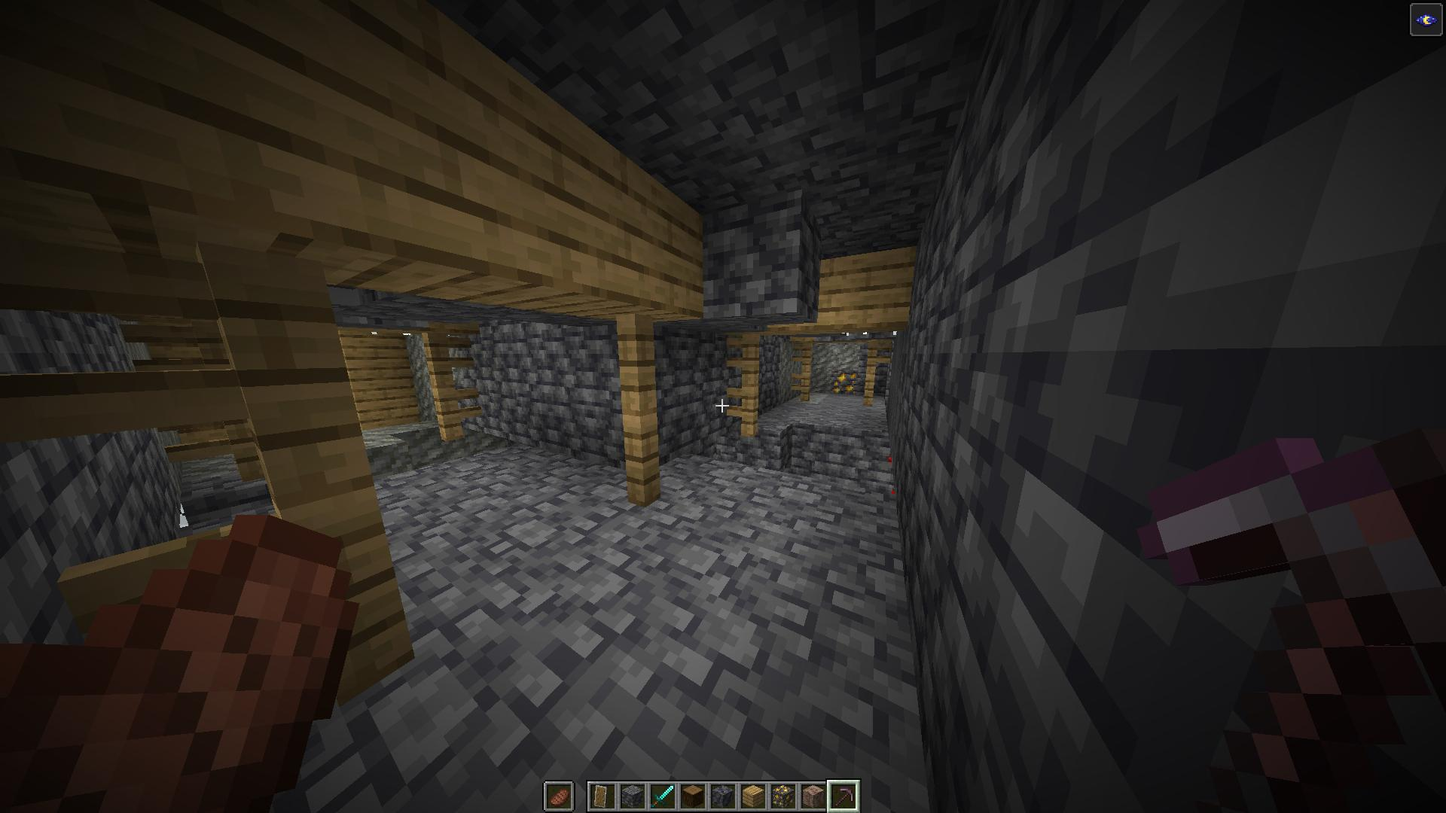gold ore: (832, 370, 856, 395)
